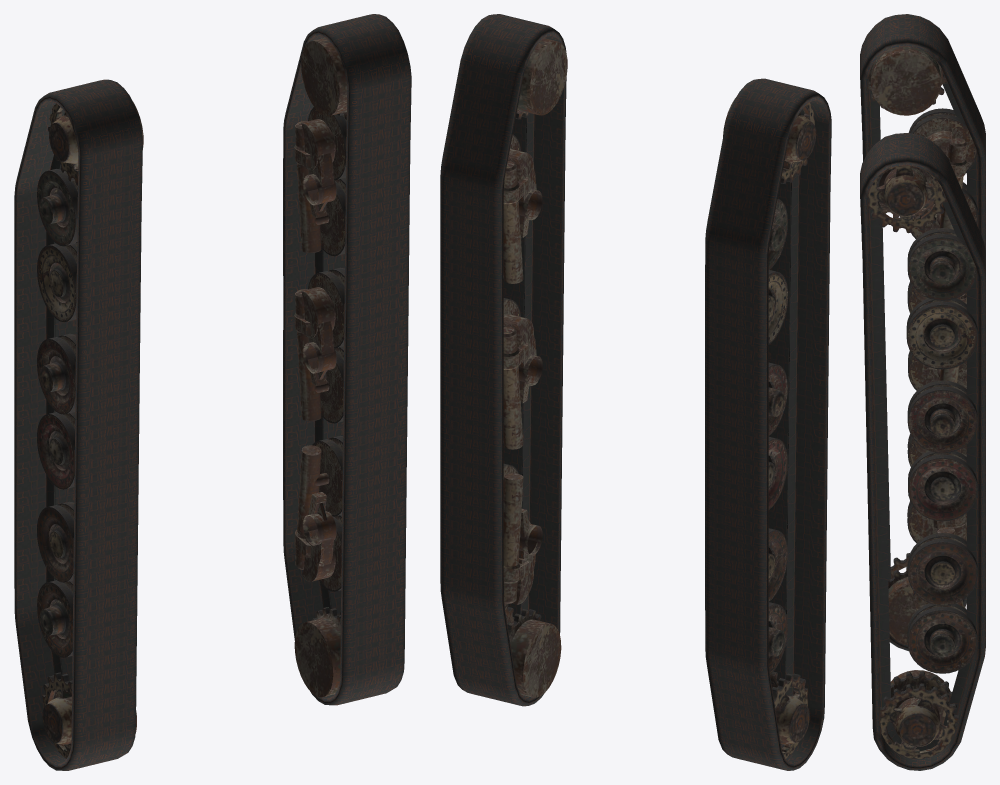
Rendered from Chassis_02.glb.
The picture shows the model from 3 angles, left to right: view 1: azimuth 30°, elevation 25°; view 2: azimuth 150°, elevation 25°; view 3: azimuth 270°, elevation 25°; orthographic projection. The views are drawn at different scales.
Visible parts, largest first — view 1: set_0_group_0, set_1_group_0, set_3_group_0, set_2_group_0; view 2: set_0_group_0, set_1_group_0, set_3_group_0, set_2_group_0; view 3: set_3_group_0, set_1_group_0, set_2_group_0, set_0_group_0.
Boxes of the visible parts, x1=… form: set_0_group_0: x1=14, y1=79, x2=142, y2=770; set_1_group_0: x1=283, y1=14, x2=411, y2=705; set_3_group_0: x1=294, y1=37, x2=347, y2=697; set_2_group_0: x1=37, y1=100, x2=143, y2=758; set_0_group_0: x1=705, y1=78, x2=831, y2=770; set_1_group_0: x1=440, y1=14, x2=566, y2=706; set_3_group_0: x1=503, y1=38, x2=567, y2=697; set_2_group_0: x1=723, y1=98, x2=816, y2=758; set_3_group_0: x1=868, y1=165, x2=977, y2=758; set_1_group_0: x1=860, y1=133, x2=985, y2=770; set_2_group_0: x1=868, y1=46, x2=977, y2=644; set_0_group_0: x1=860, y1=14, x2=985, y2=651.
Bounding box in the file's own units: 3.45 × 6.77 × 1.26.
Materials: 4 (4 with a texture image).
